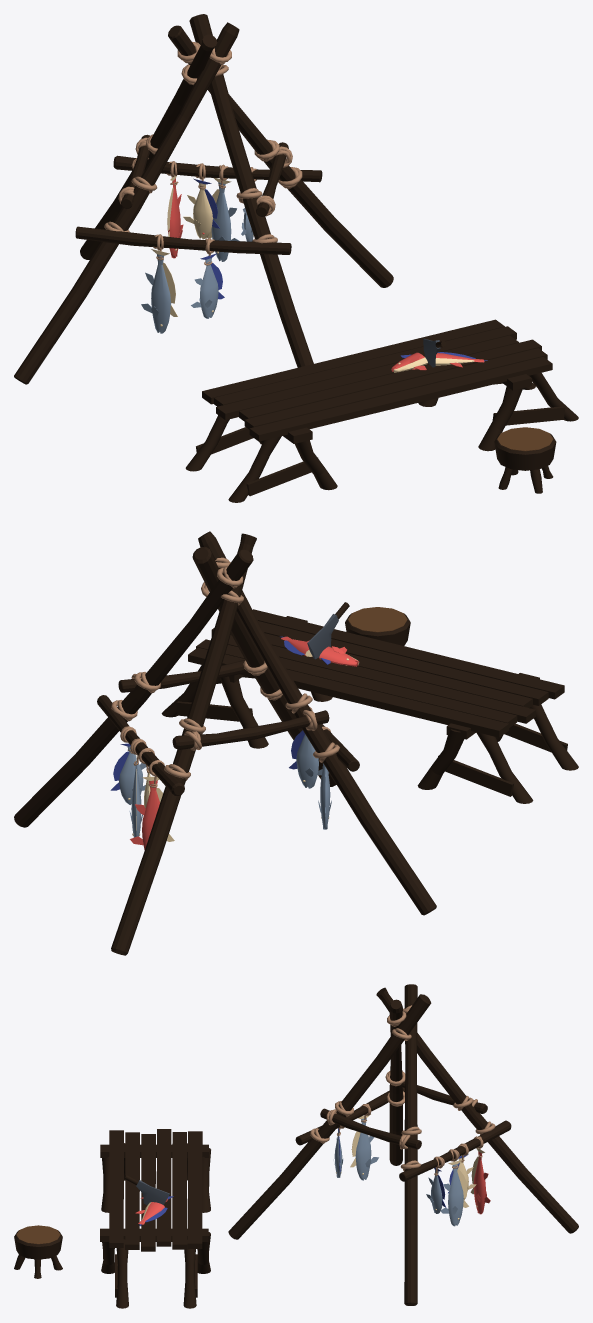
Rendered from Fish_Stand.fbx.
3 views of the same model, one above another, from view 1: azimuth 30°, elevation 25°; view 2: azimuth 150°, elevation 25°; view 3: azimuth 270°, elevation 25° (orthographic). The views are drawn at different scales.
Parts seen in each view (by area): view 1: table.001, fish-holder, fishes, ropes, chair.002, fish-sliced; view 2: fish-holder, table.001, fishes, ropes, chair.002, fish-sliced, hatcher; view 3: fish-holder, table.001, fishes, ropes, chair.002, hatcher, fish-sliced.
Part boxes in pixels (left/top/right/bottom): table.001: left=185, top=319, right=578, bottom=502; fish-holder: left=14, top=14, right=393, bottom=384; fishes: left=141, top=176, right=253, bottom=333; ropes: left=104, top=42, right=302, bottom=265; chair.002: left=494, top=427, right=556, bottom=493; fish-sliced: left=391, top=352, right=487, bottom=372; fish-holder: left=14, top=531, right=436, bottom=955; table.001: left=161, top=609, right=578, bottom=803; fishes: left=110, top=730, right=331, bottom=849; ropes: left=111, top=557, right=339, bottom=787; chair.002: left=345, top=607, right=410, bottom=645; fish-sliced: left=280, top=636, right=359, bottom=666; hatcher: left=307, top=602, right=349, bottom=659; fish-holder: left=228, top=984, right=578, bottom=1305; table.001: left=100, top=1129, right=210, bottom=1308; fishes: left=333, top=1114, right=490, bottom=1226; ropes: left=310, top=1005, right=495, bottom=1175; chair.002: left=14, top=1225, right=62, bottom=1278; hatcher: left=124, top=1174, right=169, bottom=1205; fish-sliced: left=135, top=1196, right=173, bottom=1226.
Bounding box in the file's own units: 1111 × 850 × 1782.
